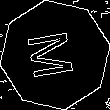M_E: (27, 28, 83, 82)
